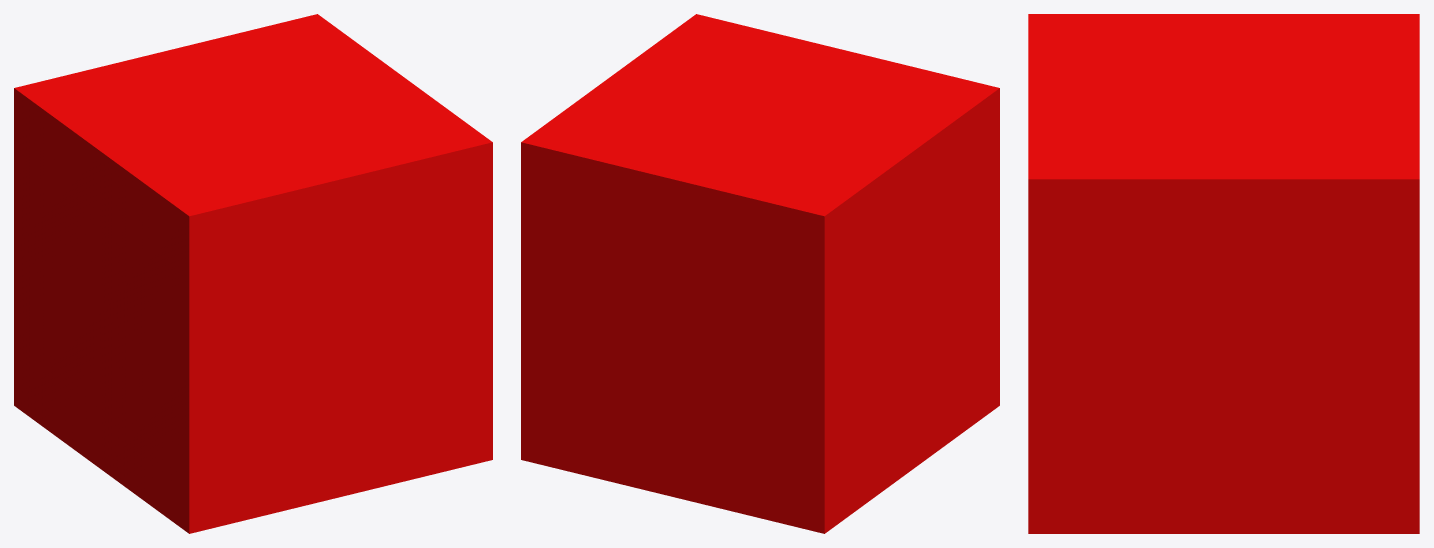
Rendered from RedCube.glb.
3 views of the same model, side by side, from view 1: azimuth 30°, elevation 25°; view 2: azimuth 150°, elevation 25°; view 3: azimuth 270°, elevation 25° (orthographic). The views are drawn at different scales.
Bounding box in the file's own units: 2 × 2 × 2.
